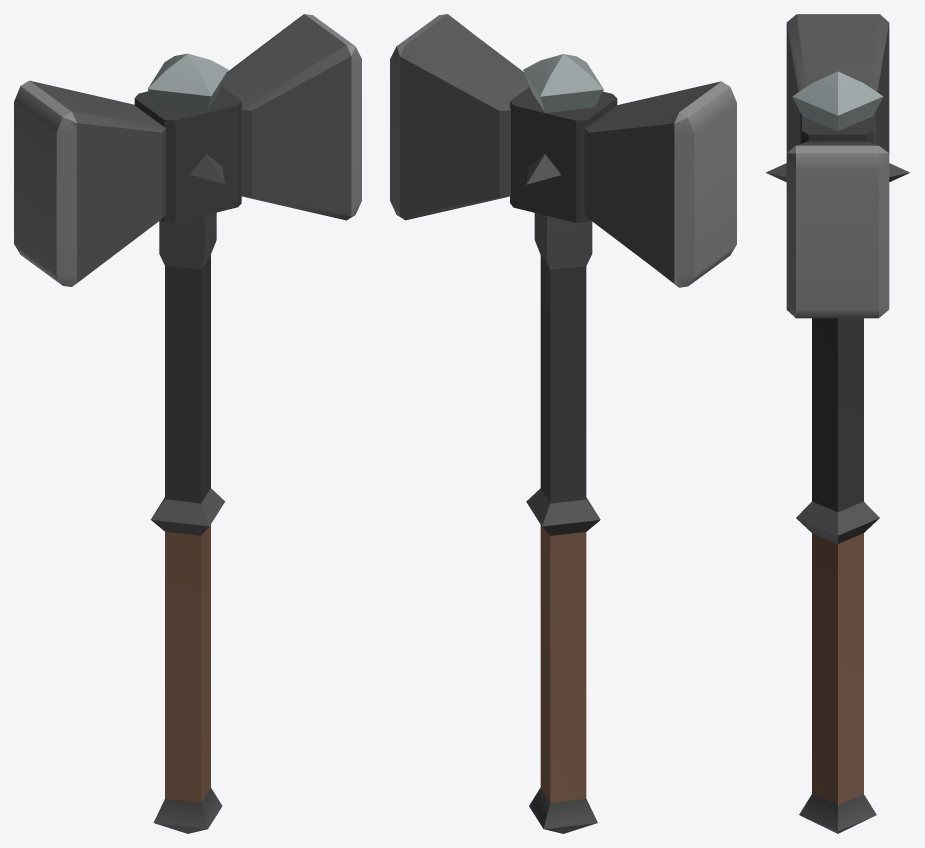
The model's file is Mace_4.fbx.
3 renders of one model, left to right at view 1: azimuth 30°, elevation 25°; view 2: azimuth 150°, elevation 25°; view 3: azimuth 270°, elevation 25°, orthographic. The views are drawn at different scales.
Visible parts, largest first — view 1: polySurface243; view 2: polySurface243; view 3: polySurface243.
Part boxes in pixels (left/top/right/bottom): polySurface243: left=14, top=14, right=361, bottom=833; polySurface243: left=390, top=14, right=736, bottom=833; polySurface243: left=766, top=14, right=909, bottom=833.
Bounding box in the file's own units: 92.85 × 227 × 39.19.
